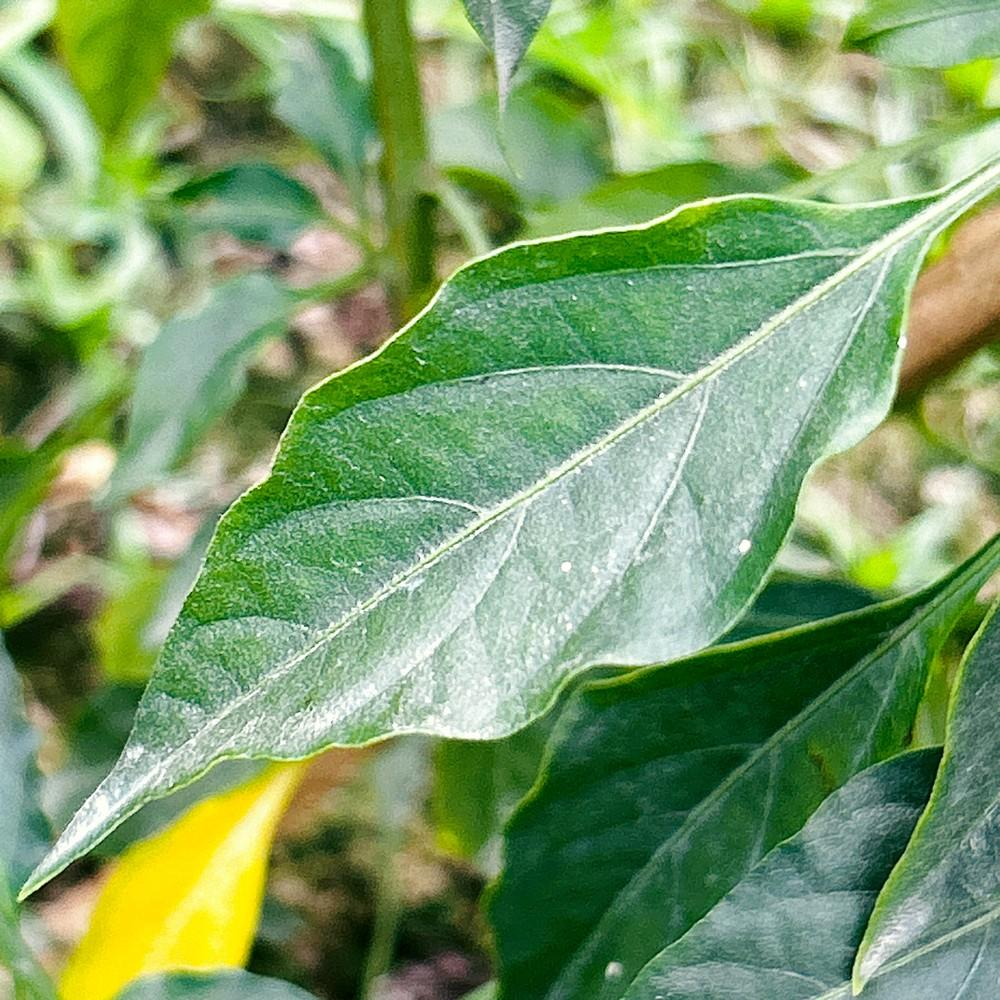Daun Cabai Sehat: (14, 145, 997, 908)
